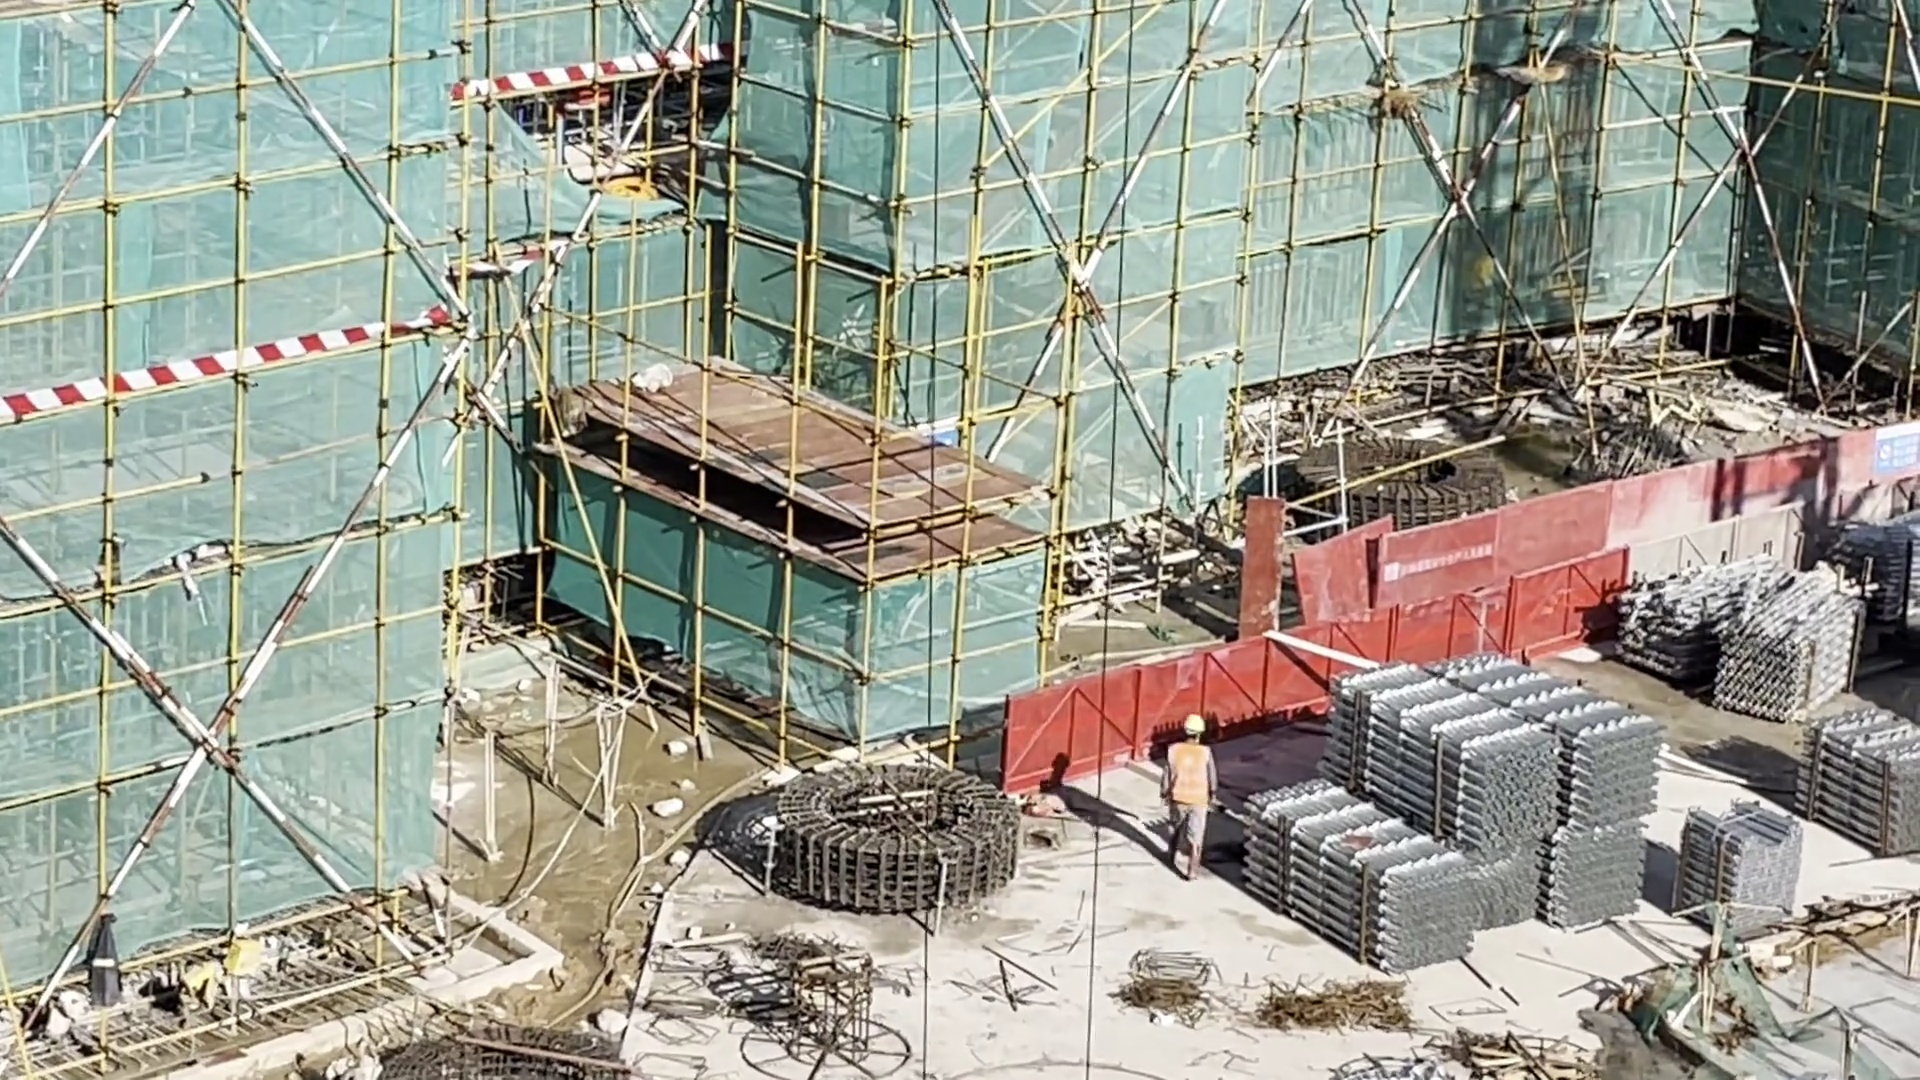fence: (1004, 466, 1920, 791)
helmet: (1172, 706, 1207, 738)
person: (1159, 704, 1213, 873)
scaffold: (1235, 666, 1656, 982), (1611, 552, 1854, 717), (1794, 719, 1920, 851), (1678, 808, 1805, 936)
vest: (1153, 730, 1202, 800)
